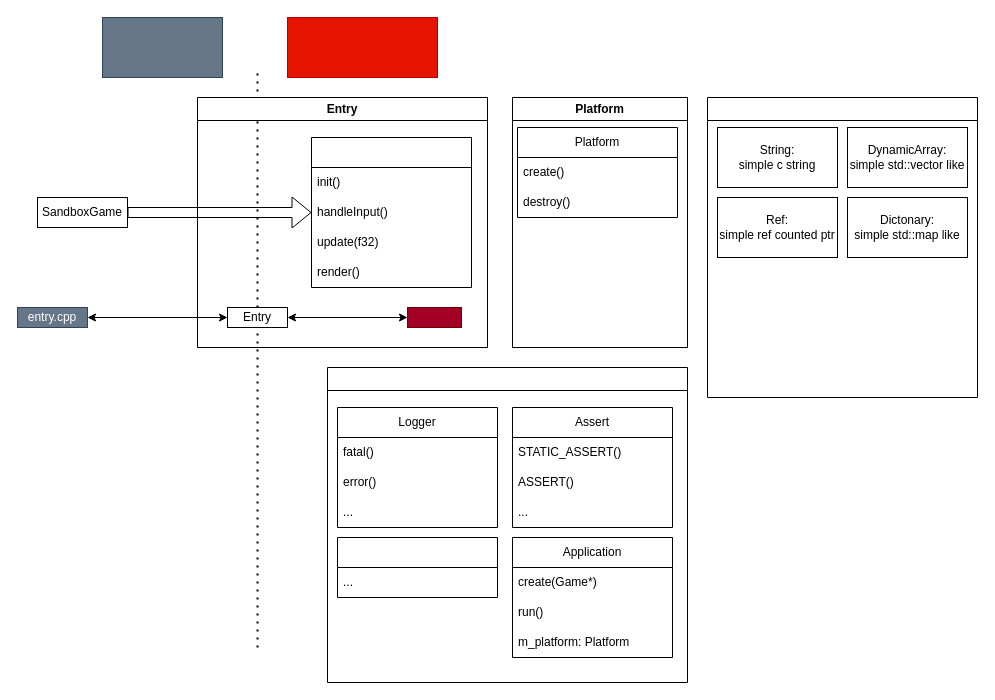
Image size: 995x700. Some labels were removed from this diagram. The shapes that lost their labels are listed below. From the top down, each one's box as (x1, y1, x2, y2) in pixels, then its label:
(102, 16, 222, 78): sandbox.exe
(286, 16, 438, 78): engine.so / engine.dll
(310, 136, 472, 288): Game
(706, 96, 978, 398): Container
(406, 306, 462, 328): entry.hpp
(326, 366, 688, 682): Core
(336, 536, 498, 598): Renderer
